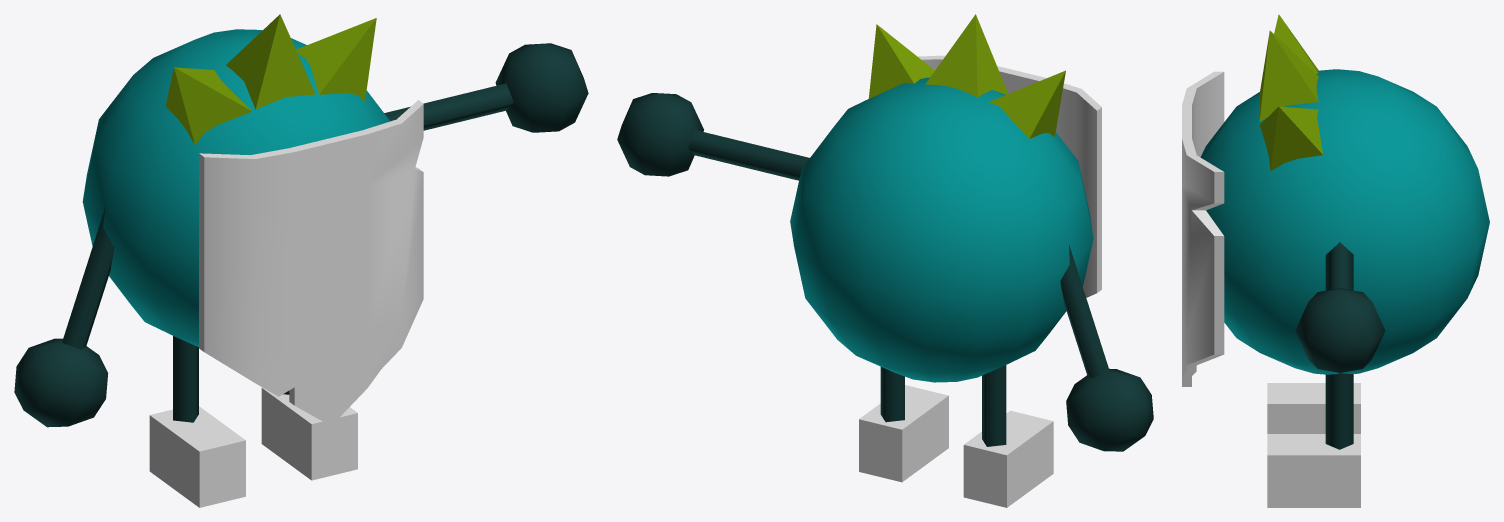
Rendered from placeholder.FBX.
The picture shows the model from 3 angles, left to right: view 1: azimuth 30°, elevation 25°; view 2: azimuth 150°, elevation 25°; view 3: azimuth 270°, elevation 25°; orthographic projection. The views are drawn at different scales.
Visible parts, largest first — view 1: Box001, Sphere002, Box002, Sphere004, Sphere003, Box003, Pyramid001, Pyramid002, Pyramid003, Cylinder006, Cylinder003, Cylinder005; view 2: Sphere002, Box002, Box003, Box001, Sphere004, Sphere003, Pyramid001, Cylinder003, Pyramid003, Cylinder006, Pyramid002, Cylinder005 (+1 smaller); view 3: Sphere002, Box001, Box003, Sphere003, Box002, Pyramid001, Pyramid002, Cylinder004, Cylinder003, Pyramid003.
Boxes of the visible parts, x1,y1,x2,y2 form: Box001: [199, 100, 423, 425]; Sphere002: [82, 29, 390, 346]; Box002: [149, 406, 245, 507]; Sphere004: [14, 338, 108, 427]; Sphere003: [495, 43, 588, 132]; Box003: [261, 387, 357, 480]; Pyramid001: [226, 14, 315, 109]; Pyramid002: [296, 18, 376, 101]; Pyramid003: [165, 67, 252, 144]; Cylinder006: [62, 206, 114, 349]; Cylinder003: [384, 83, 513, 130]; Cylinder005: [173, 336, 198, 422]; Sphere002: [790, 77, 1093, 382]; Box002: [963, 410, 1053, 507]; Box003: [859, 385, 948, 482]; Box001: [918, 55, 1101, 297]; Sphere004: [1066, 368, 1153, 451]; Sphere003: [617, 93, 703, 176]; Pyramid001: [925, 14, 1008, 97]; Cylinder003: [688, 130, 809, 180]; Pyramid003: [988, 70, 1065, 138]; Cylinder006: [1060, 244, 1109, 378]; Pyramid002: [868, 24, 934, 98]; Cylinder005: [982, 365, 1006, 446]; Sphere002: [1200, 69, 1489, 374]; Box001: [1182, 71, 1224, 386]; Box003: [1267, 434, 1360, 507]; Sphere003: [1295, 288, 1385, 372]; Box002: [1267, 383, 1360, 433]; Pyramid001: [1259, 30, 1318, 122]; Pyramid002: [1259, 106, 1322, 171]; Cylinder004: [1325, 373, 1353, 449]; Cylinder003: [1325, 242, 1353, 290]; Pyramid003: [1274, 14, 1318, 73].
Size of the model in its own units: 142 by 114 by 71.98.
